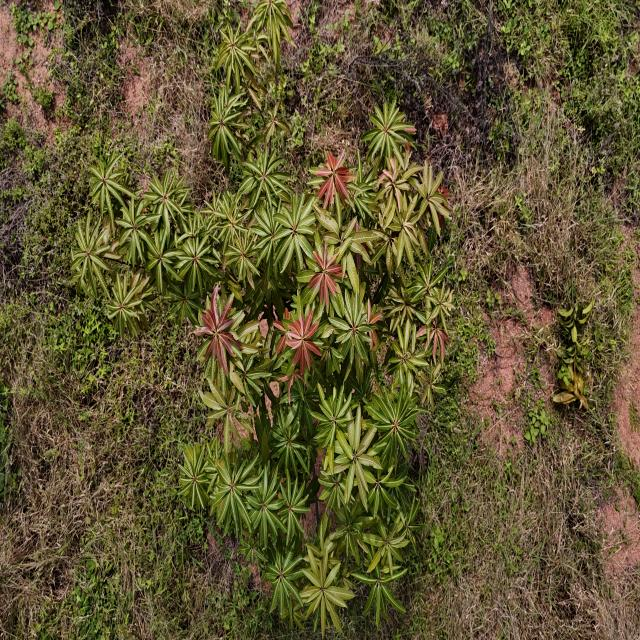mangoTree: (70, 0, 457, 640)
